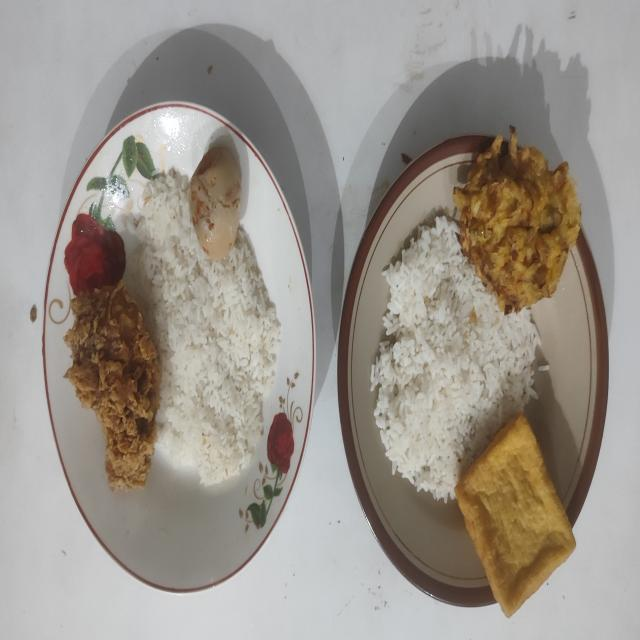nasi_putih: (370, 217, 540, 502), (134, 170, 281, 485)
tahu_goreng: (456, 414, 576, 616)
